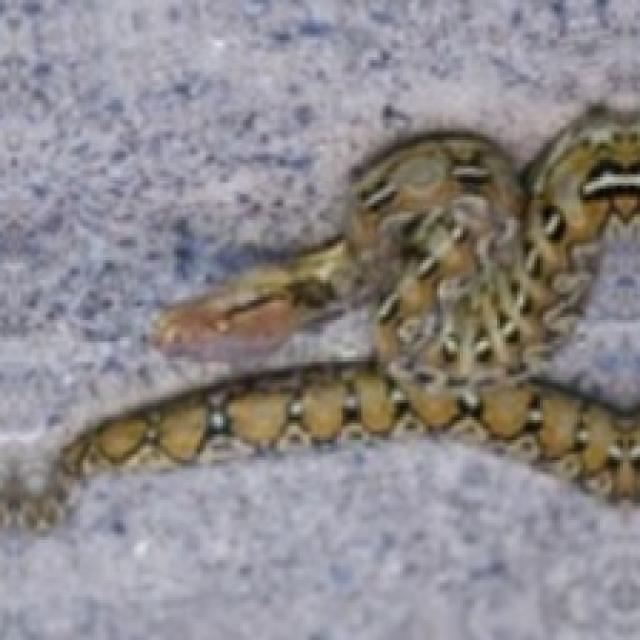reticulated python: (0, 106, 637, 529)
